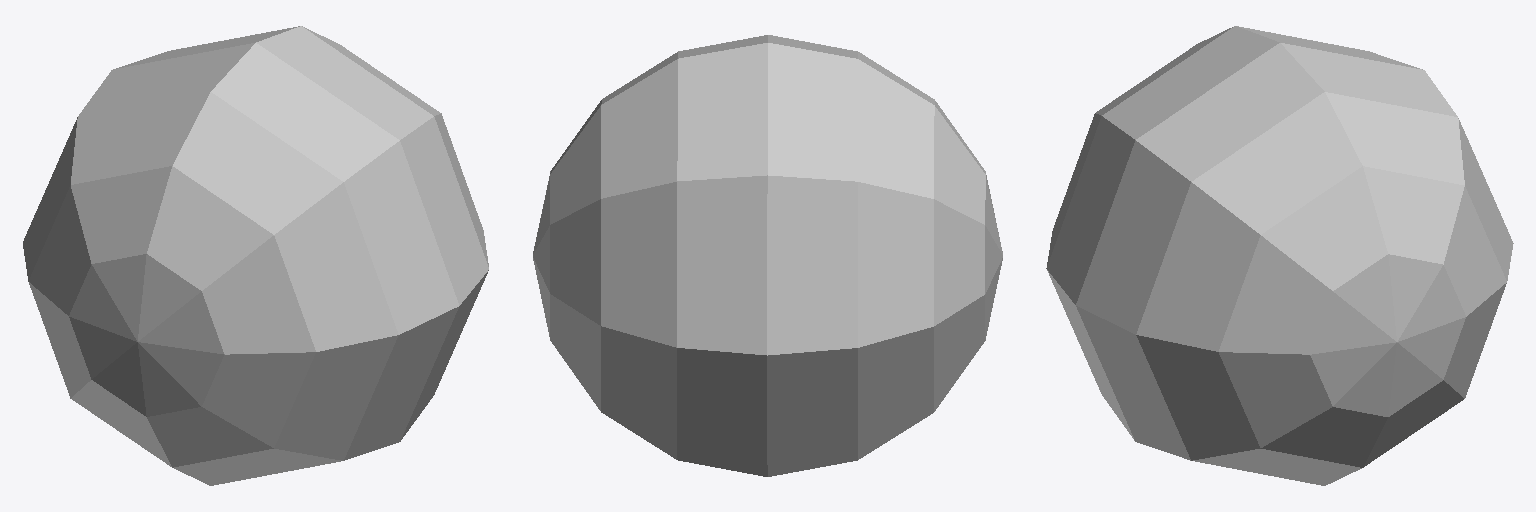
File: portalTrigger.obj
The picture shows the model from 3 angles: view 1: azimuth 30°, elevation 25°; view 2: azimuth 150°, elevation 25°; view 3: azimuth 270°, elevation 25°; orthographic projection.
Visible parts, largest first — view 1: portalTrigger_Sphere.001; view 2: portalTrigger_Sphere.001; view 3: portalTrigger_Sphere.001.
Part boxes in pixels (bbox=[...]): portalTrigger_Sphere.001: bbox=[23, 26, 488, 485]; portalTrigger_Sphere.001: bbox=[533, 35, 1002, 476]; portalTrigger_Sphere.001: bbox=[1046, 26, 1513, 485].
Size of the model in its own units: 26.59 by 26.81 by 26.59.